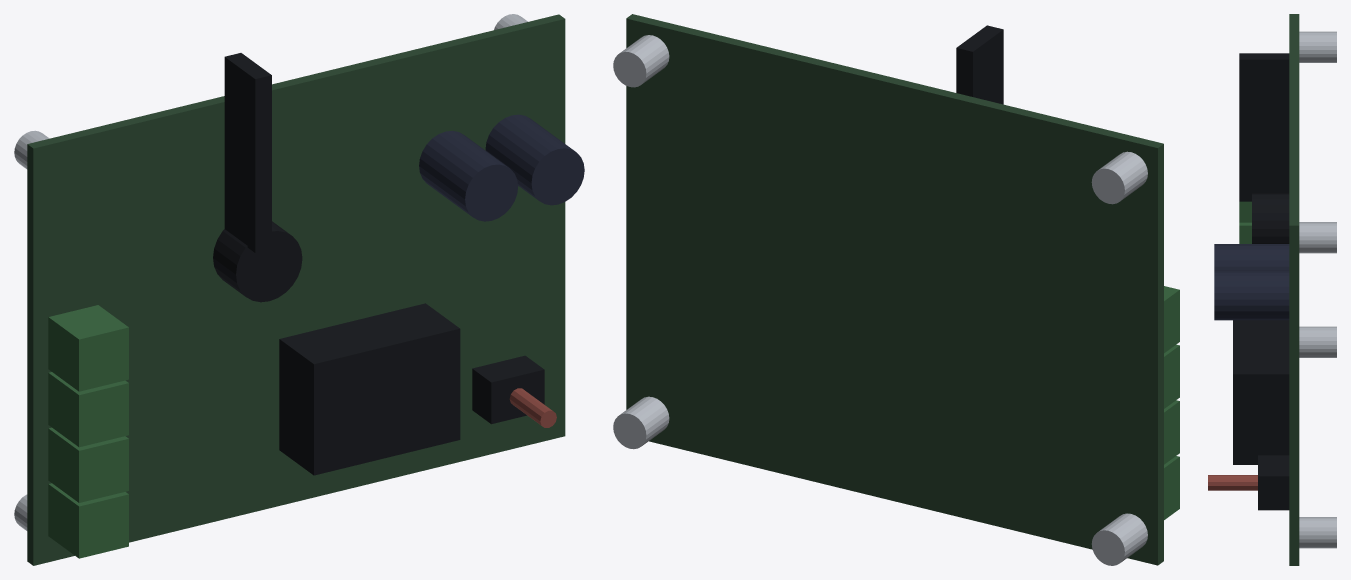
The model's file is roboracer_pcb.glb.
3 renders of one model, left to right at view 1: azimuth 30°, elevation 25°; view 2: azimuth 150°, elevation 25°; view 3: azimuth 270°, elevation 25°, orthographic. The views are drawn at different scales.
Visible parts, largest first — view 1: pcb_standoff; view 2: pcb_standoff; view 3: pcb_standoff.
Part boxes in pixels (x1=…): pcb_standoff: x1=14, y1=14, x2=584, y2=565; pcb_standoff: x1=613, y1=14, x2=1179, y2=565; pcb_standoff: x1=1208, y1=14, x2=1336, y2=565.
Size of the model in its own units: 0.08 by 0.0665 by 0.0206.
Materials: 1 (1 with a texture image).
